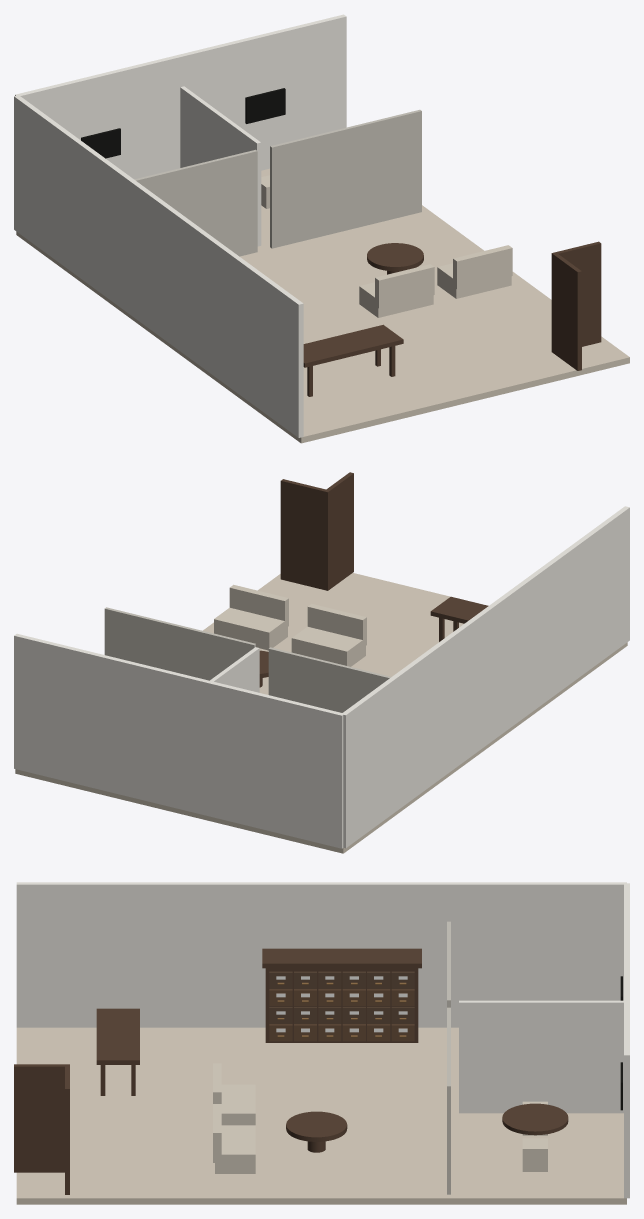
File: store-concept.glb
3 renders of one model, top to bottom at view 1: azimuth 30°, elevation 25°; view 2: azimuth 150°, elevation 25°; view 3: azimuth 270°, elevation 25°, orthographic. The views are drawn at different scales.
Visible parts, largest first — view 1: Limewash side wall, Travertine floor, Limewash rear wall, Consultation privacy partition (×2), Consultation divider, Linen back (×2), Urgent call booth side, Urgent call booth back, Reception tabletop, Linen lounge seat (×2), Analysis screen (×2), Coffee table; view 2: Limewash rear wall, Limewash side wall, Travertine floor, Consultation privacy partition (×2), Urgent call booth back, Linen lounge seat (×2), Urgent call booth side, Linen back (×2), Consultation divider, Reception tabletop; view 3: Travertine floor, Limewash side wall, Consultation divider, Urgent call booth side, Counter, Linen lounge seat (×2), Walnut cabinet, Reception tabletop, Limewash rear wall, Round consultation table, Coffee table, Consultation chair (+3 smaller).
Boxes of the visible parts, x1,y1,x2,y2 form: Limewash side wall: (14, 95, 303, 437); Travertine floor: (16, 168, 629, 443); Limewash rear wall: (15, 14, 346, 179); Consultation privacy partition (×2): (134, 109, 421, 256); Consultation divider: (180, 86, 261, 246); Linen back (×2): (375, 245, 512, 308); Urgent call booth side: (551, 252, 581, 370); Urgent call booth back: (554, 241, 601, 346); Reception tabletop: (303, 324, 403, 367); Linen lounge seat (×2): (359, 263, 511, 317); Analysis screen (×2): (81, 88, 285, 158); Coffee table: (367, 243, 423, 271); Limewash rear wall: (14, 633, 343, 848); Limewash side wall: (341, 506, 629, 848); Travertine floor: (15, 573, 627, 853); Consultation privacy partition (×2): (104, 607, 391, 712); Urgent call booth back: (280, 479, 327, 589); Linen lounge seat (×2): (214, 607, 365, 666); Urgent call booth side: (324, 472, 353, 590); Linen back (×2): (229, 584, 366, 645); Consultation divider: (210, 647, 259, 692); Reception tabletop: (430, 596, 488, 623); Travertine floor: (16, 1027, 626, 1204); Limewash side wall: (16, 882, 626, 1027); Consultation divider: (459, 1000, 623, 1113); Urgent call booth side: (14, 1064, 69, 1172); Counter: (262, 948, 421, 968); Linen lounge seat (×2): (215, 1084, 255, 1173); Walnut cabinet: (265, 968, 418, 1042); Reception tabletop: (96, 1008, 139, 1064); Limewash rear wall: (624, 883, 629, 1198); Round consultation table: (502, 1103, 568, 1135); Coffee table: (286, 1111, 347, 1141); Consultation chair: (522, 1138, 547, 1171).
Size of the model in its own units: 8.06 by 3.24 by 12.11.
